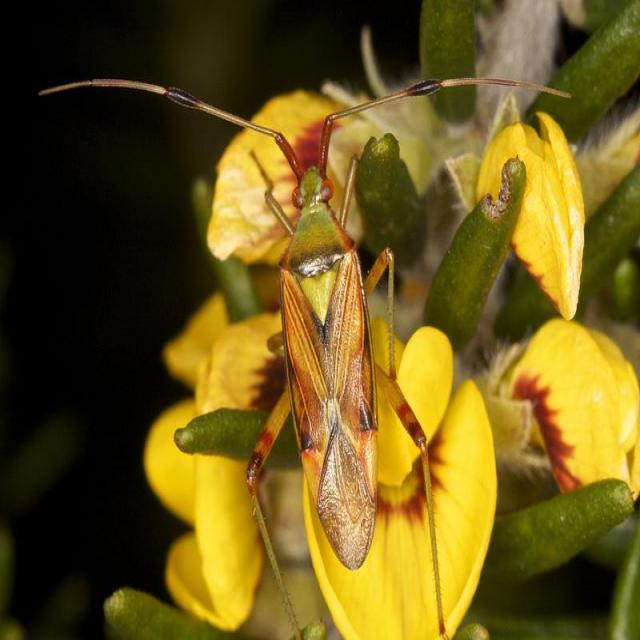Miridae-Adult-: (22, 59, 544, 596)
